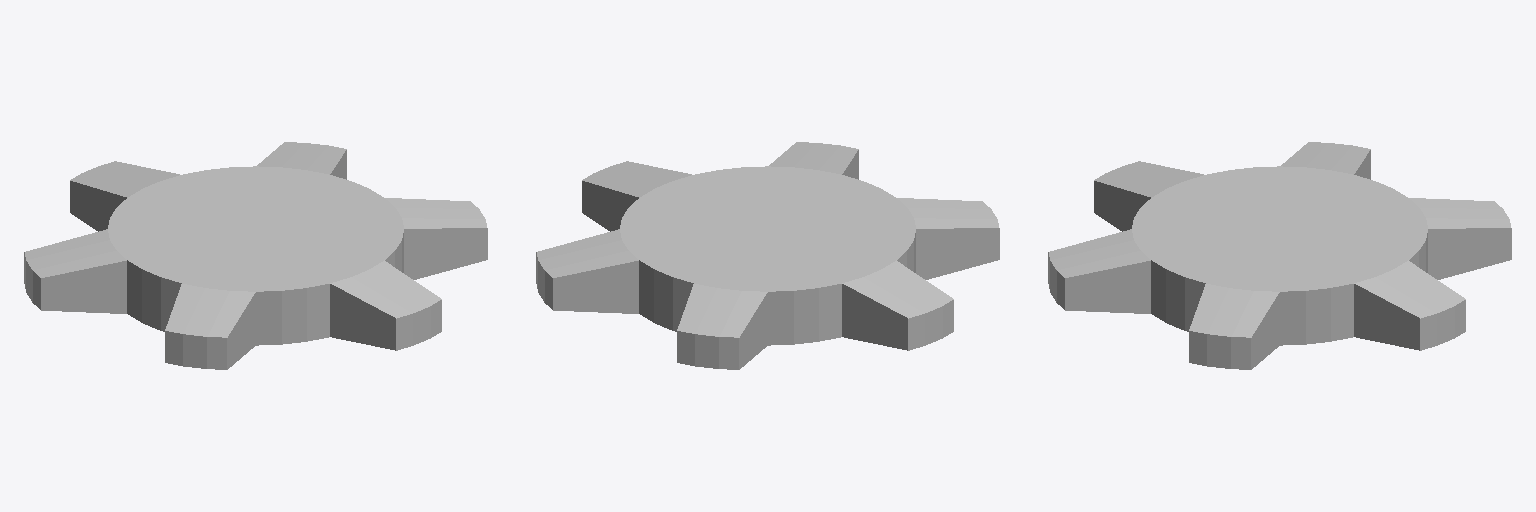
3 views of the same model, side by side, from view 1: azimuth 30°, elevation 25°; view 2: azimuth 150°, elevation 25°; view 3: azimuth 270°, elevation 25° (orthographic).
Visible parts, largest first — view 1: in, out; view 2: in, out; view 3: in, out.
Part boxes in pixels (bbox=[...]): in: bbox=[25, 142, 486, 337]; out: bbox=[24, 150, 487, 369]; in: bbox=[537, 142, 998, 337]; out: bbox=[536, 150, 999, 369]; in: bbox=[1049, 142, 1510, 337]; out: bbox=[1048, 150, 1511, 369].
Bounding box in the file's own units: 15.6 × 2 × 15.6.
2 materials, 1 textured.